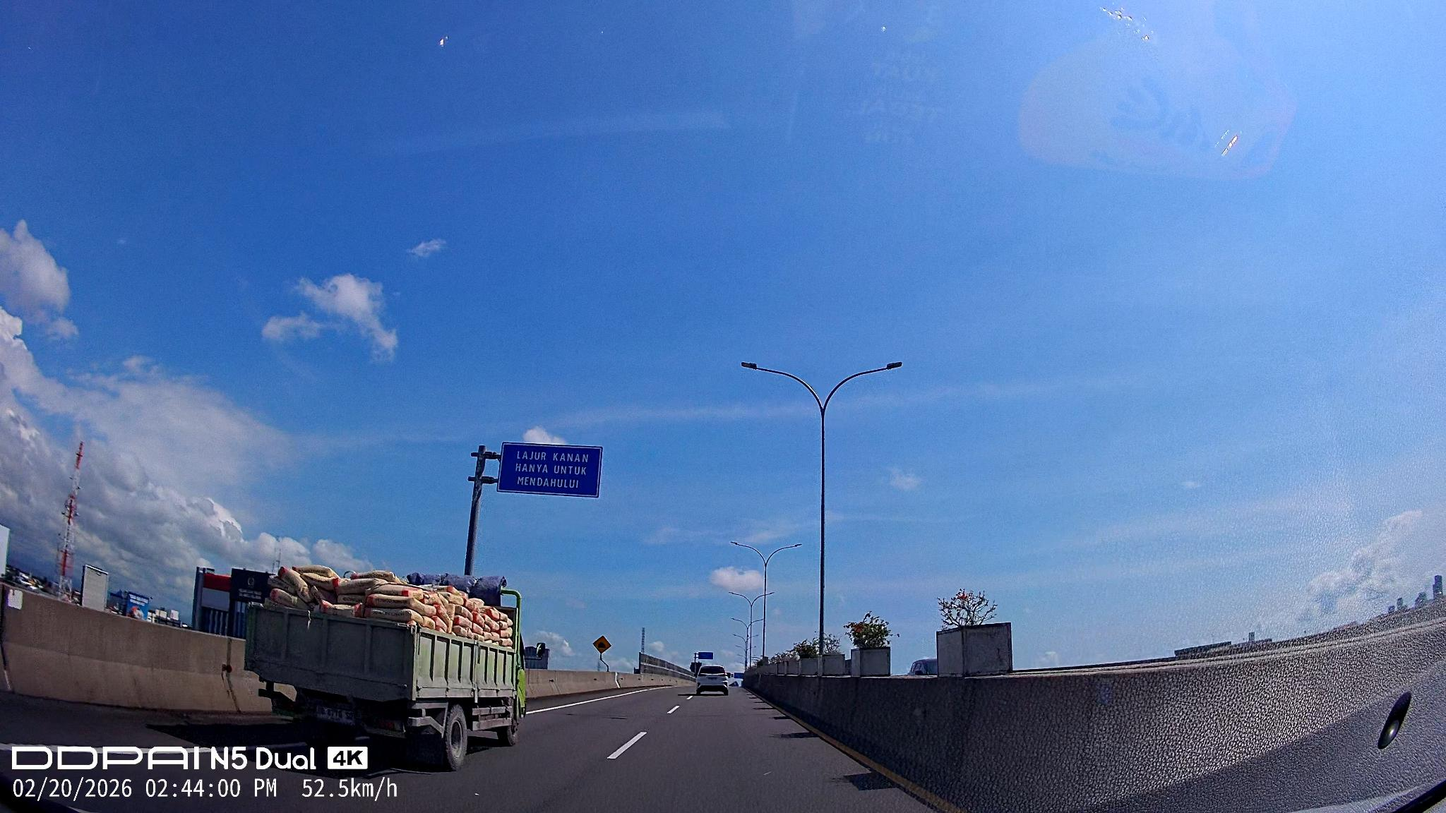rambu_teks: (496, 442, 604, 499)
